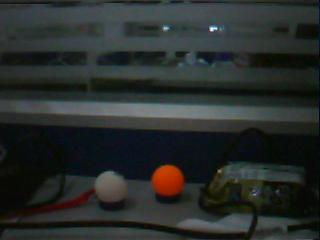oball: (150, 165, 184, 195)
